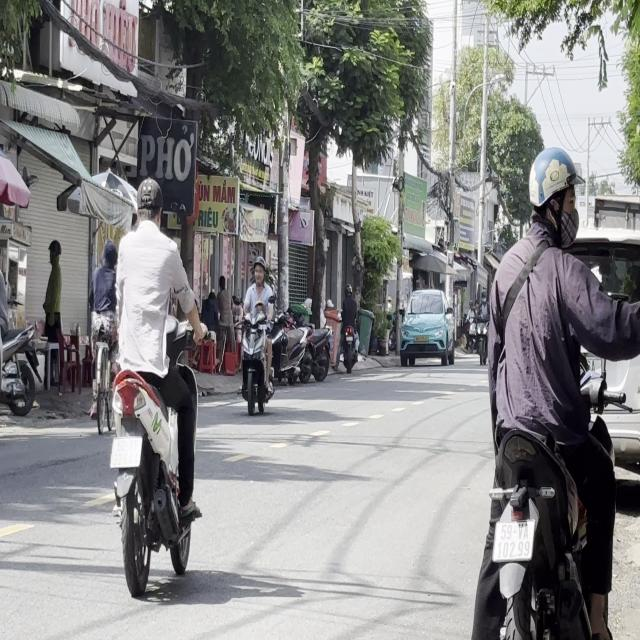helmet: (527, 146, 580, 240), (252, 255, 266, 287)
licenseplate: (468, 138, 628, 635), (104, 174, 208, 596), (236, 254, 277, 414)
motorcyclist: (134, 176, 164, 228)
nohelmet: (493, 520, 533, 560), (110, 436, 141, 467)
